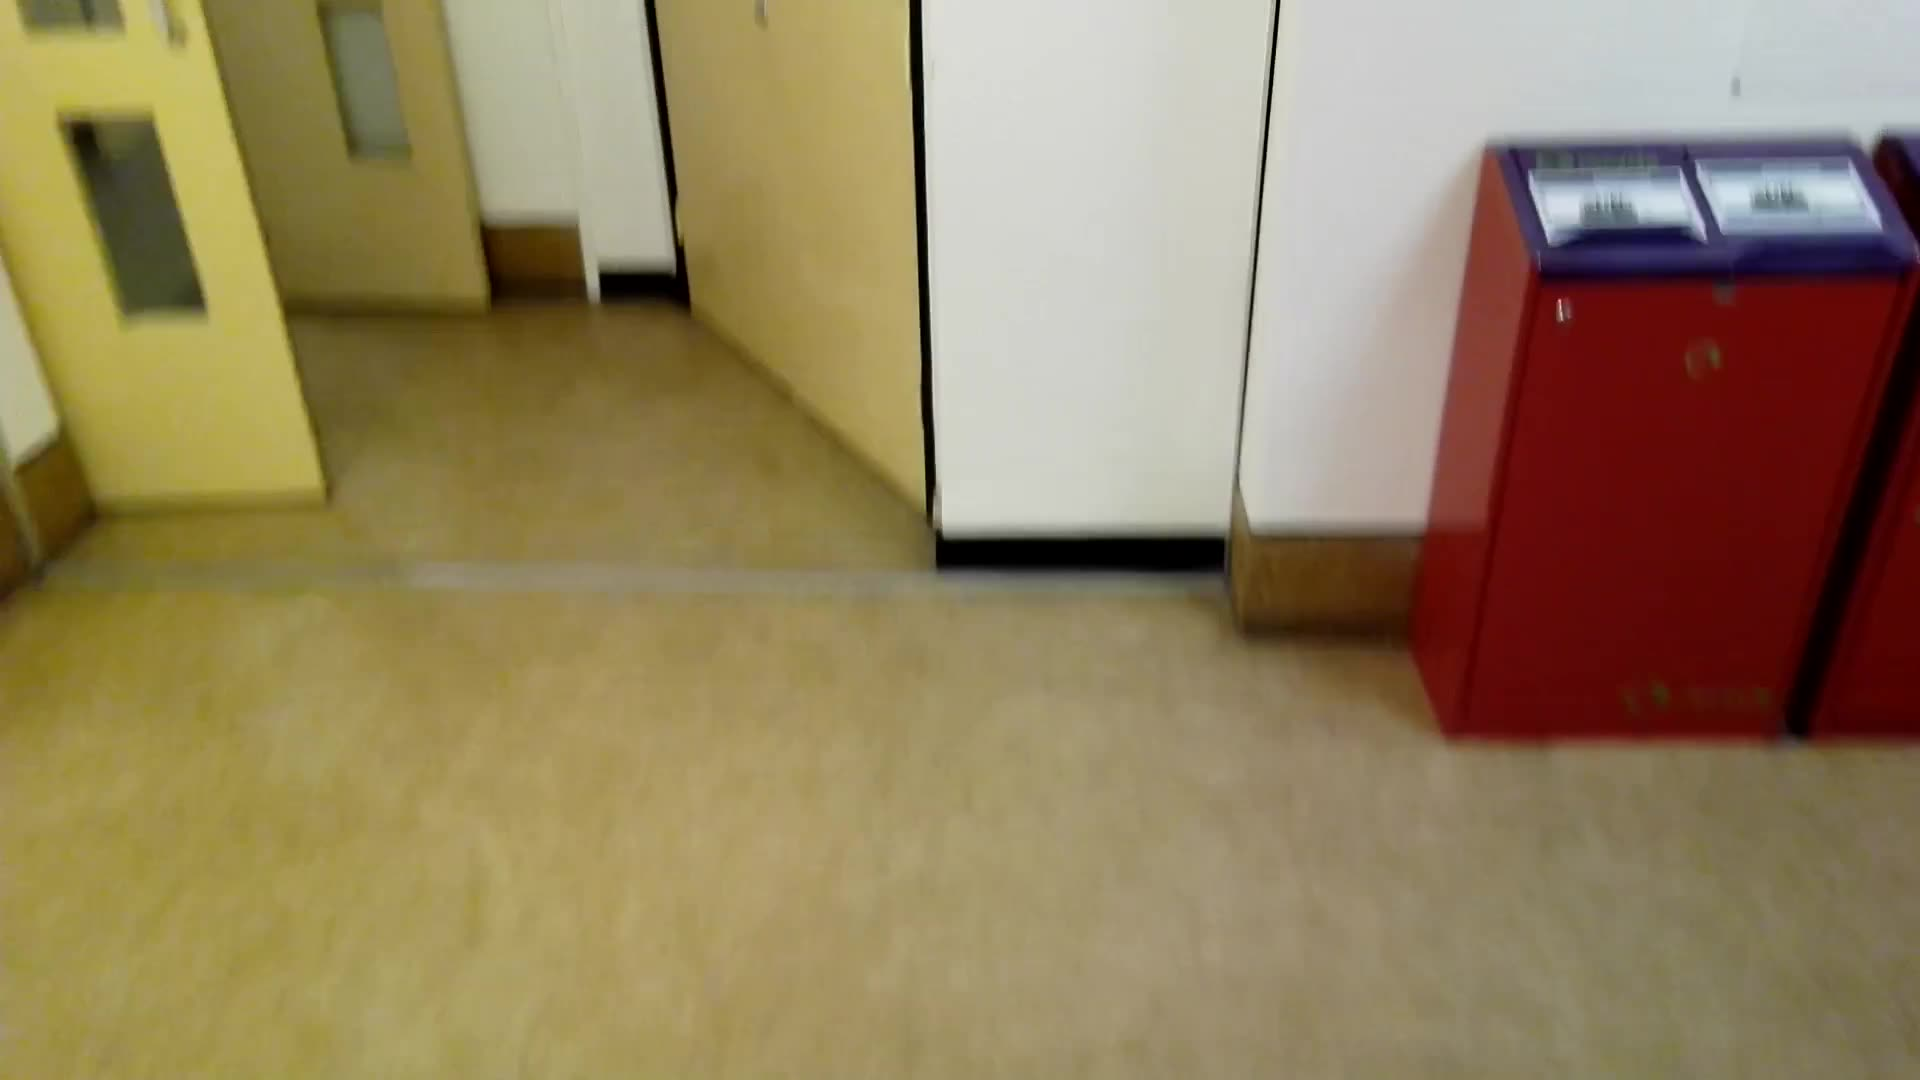Bin: (1441, 117, 1861, 769)
